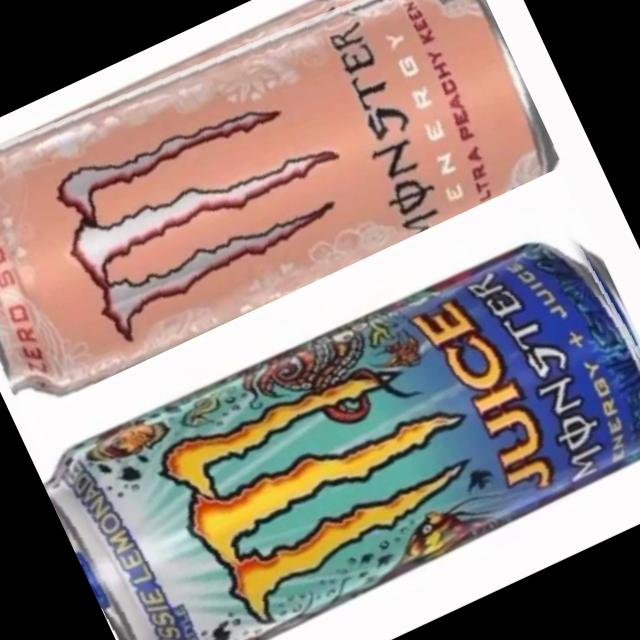Cans: (31, 202, 640, 640), (0, 0, 563, 421)
